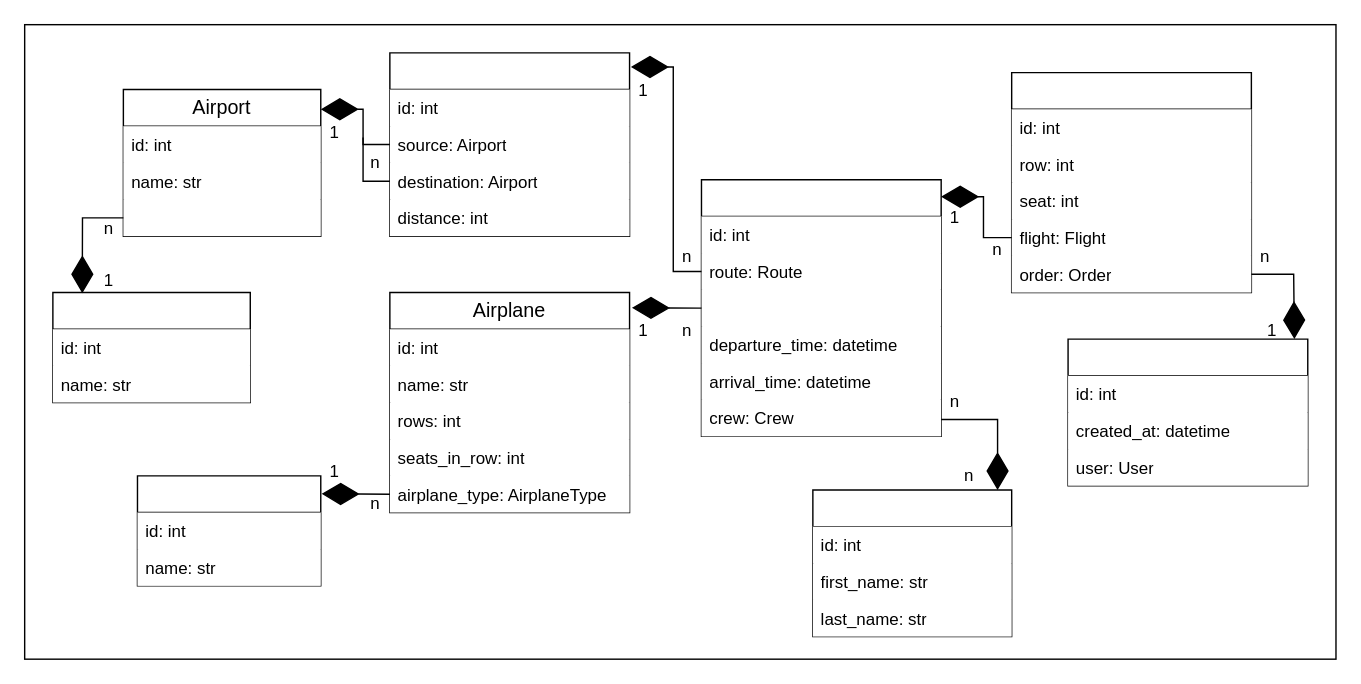
Image size: 1361x684. Some labels were removed from this diagram. The shapes that lost their labels are listed below. From the top down, each one's box as (x1, y1, x2, y2) in pixels, then its label:
(388, 51, 630, 236): Route
(1010, 71, 1251, 293): Ticket
(123, 199, 320, 235): closest_big_city: City
(700, 178, 941, 436): Flight
(701, 289, 940, 326): airplane: Airplane
(51, 291, 250, 403): City
(1067, 338, 1308, 486): Order
(136, 474, 321, 586): AirplaneType
(811, 489, 1012, 637): Crew
